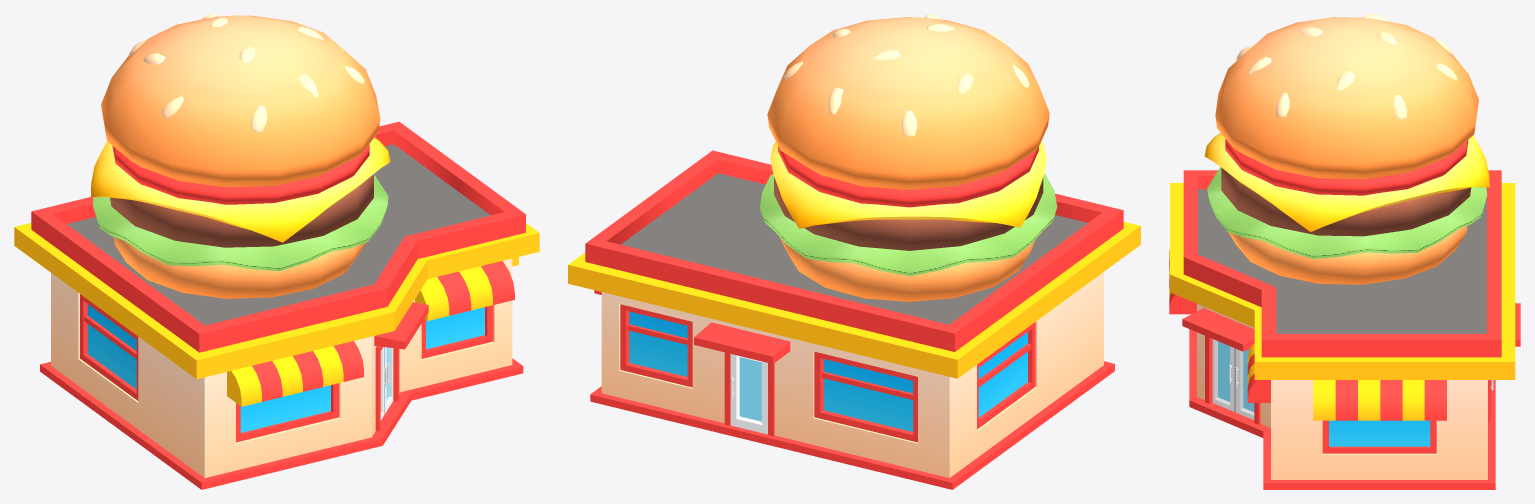
File: city2-building-snack-09.glb
3 views of the same model, side by side, from view 1: azimuth 30°, elevation 25°; view 2: azimuth 150°, elevation 25°; view 3: azimuth 270°, elevation 25° (orthographic). The views are drawn at different scales.
Visible parts, largest first — view 1: Building_Snack_09; view 2: Building_Snack_09; view 3: Building_Snack_09.
Boxes of the visible parts, x1,y1,x2,y2 form: Building_Snack_09: [14, 14, 539, 489]; Building_Snack_09: [568, 14, 1140, 489]; Building_Snack_09: [1169, 14, 1520, 489].
Size of the model in its own units: 11.52 by 10.14 by 9.31.
1 material, 1 textured.
